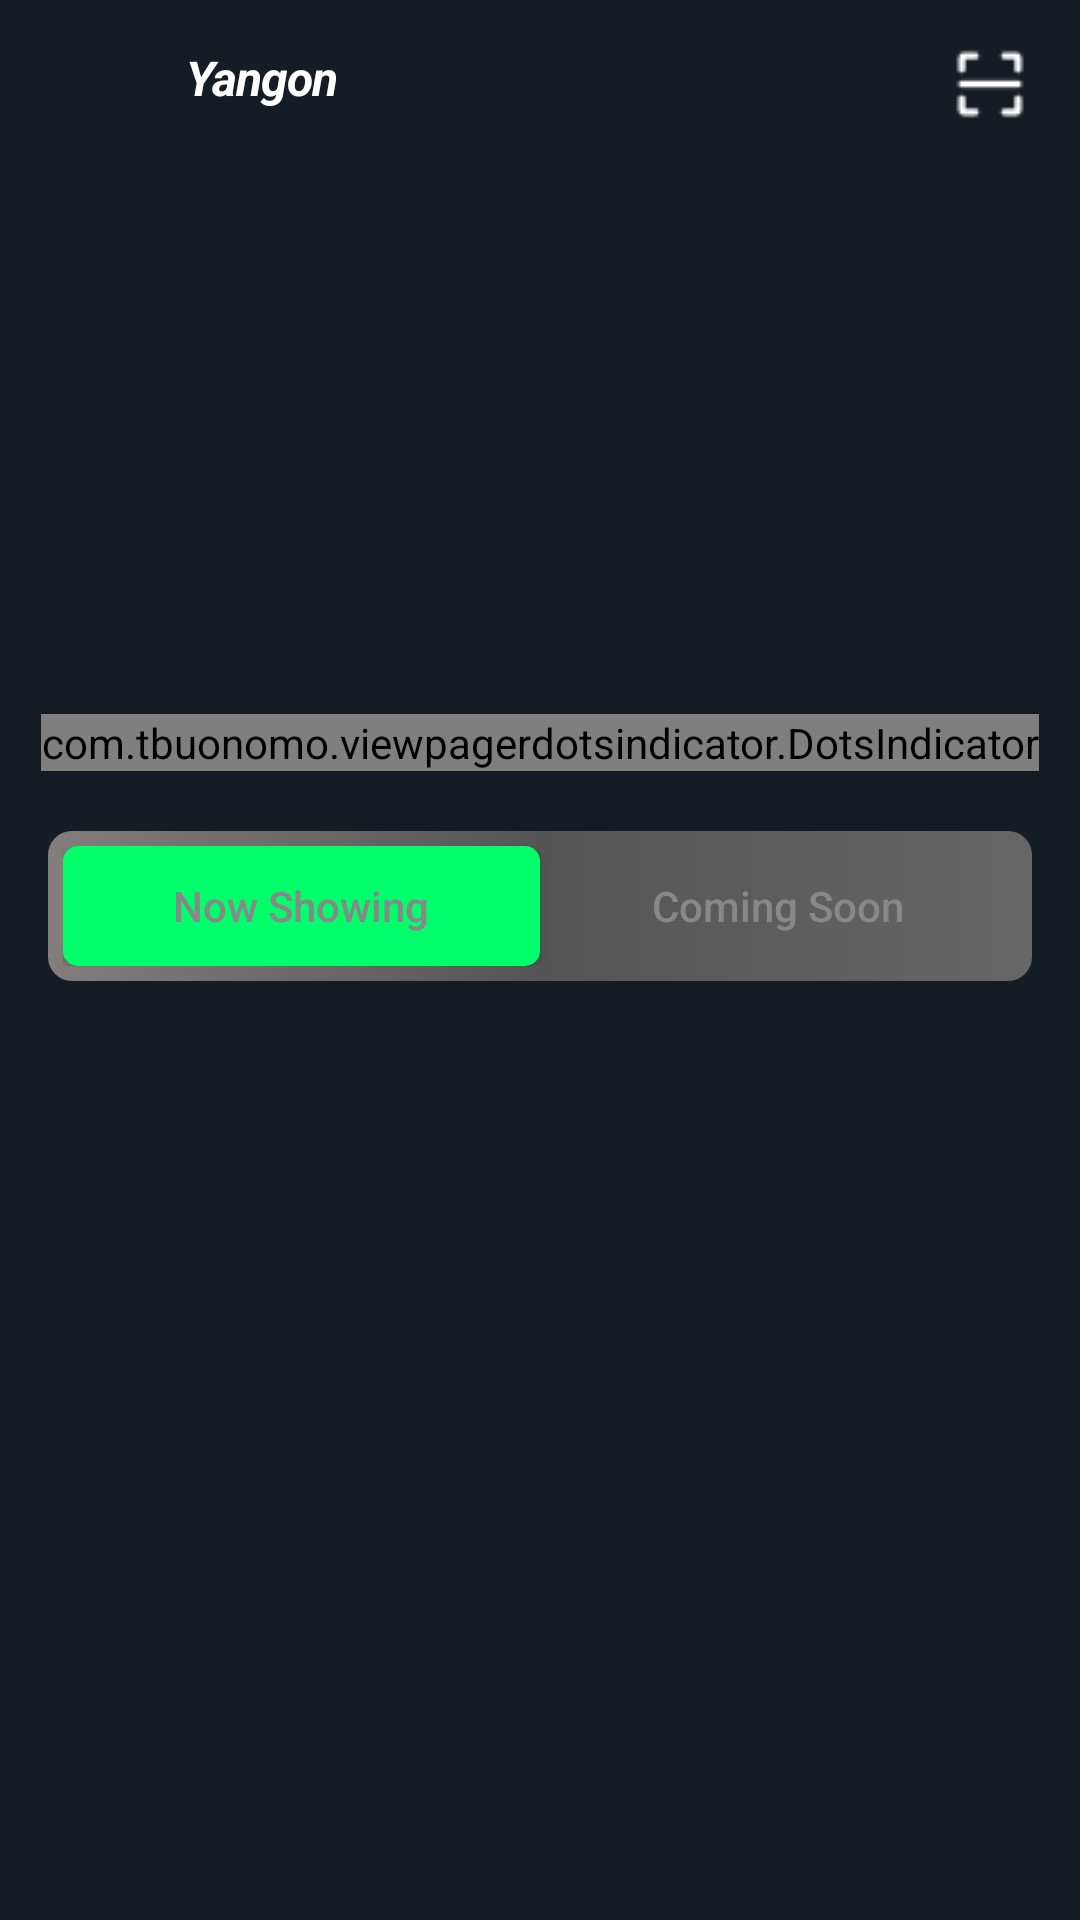

Icons on this 1080*1920 Android screen, each with the point to tap as (x,y):
scaner: (990,84)
